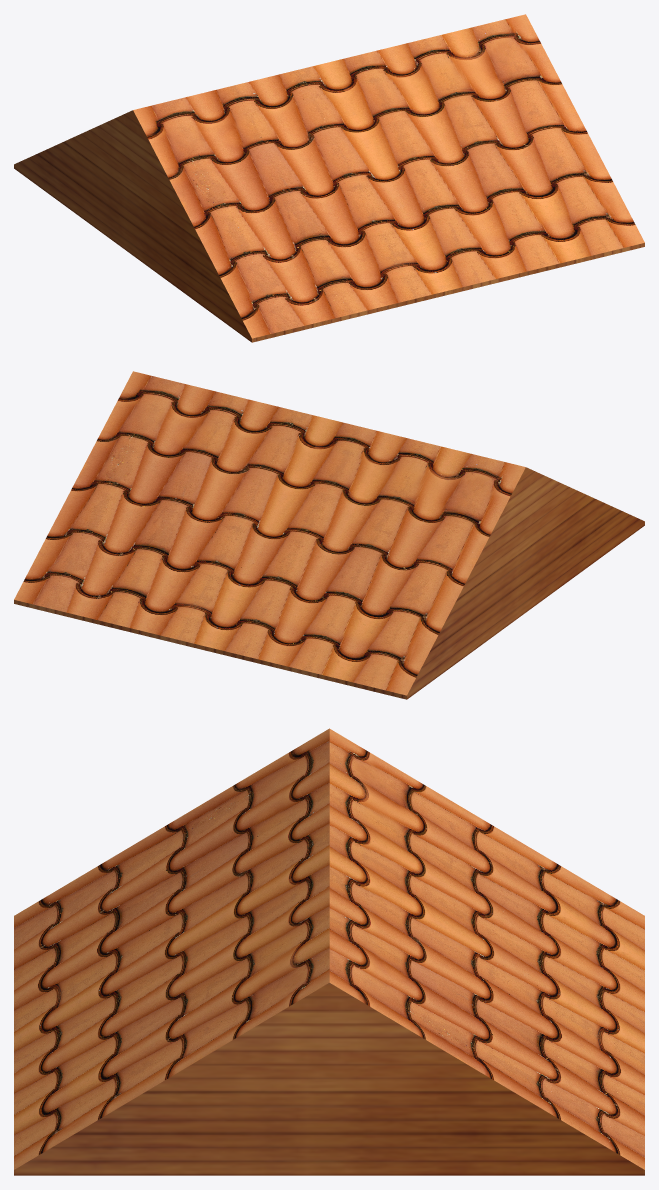
File: roof.fbx
The picture shows the model from 3 angles, top to bottom: view 1: azimuth 30°, elevation 25°; view 2: azimuth 150°, elevation 25°; view 3: azimuth 270°, elevation 25°; orthographic projection. The views are drawn at different scales.
Parts seen in each view (by area): view 1: Плоскость; view 2: Плоскость; view 3: Плоскость.
Boxes of the visible parts, <box> form: Плоскость: <box>14,14,644,342</box>; Плоскость: <box>14,371,644,699</box>; Плоскость: <box>14,728,644,1175</box>.
Bounding box in the file's own units: 2314 × 819 × 2428.
